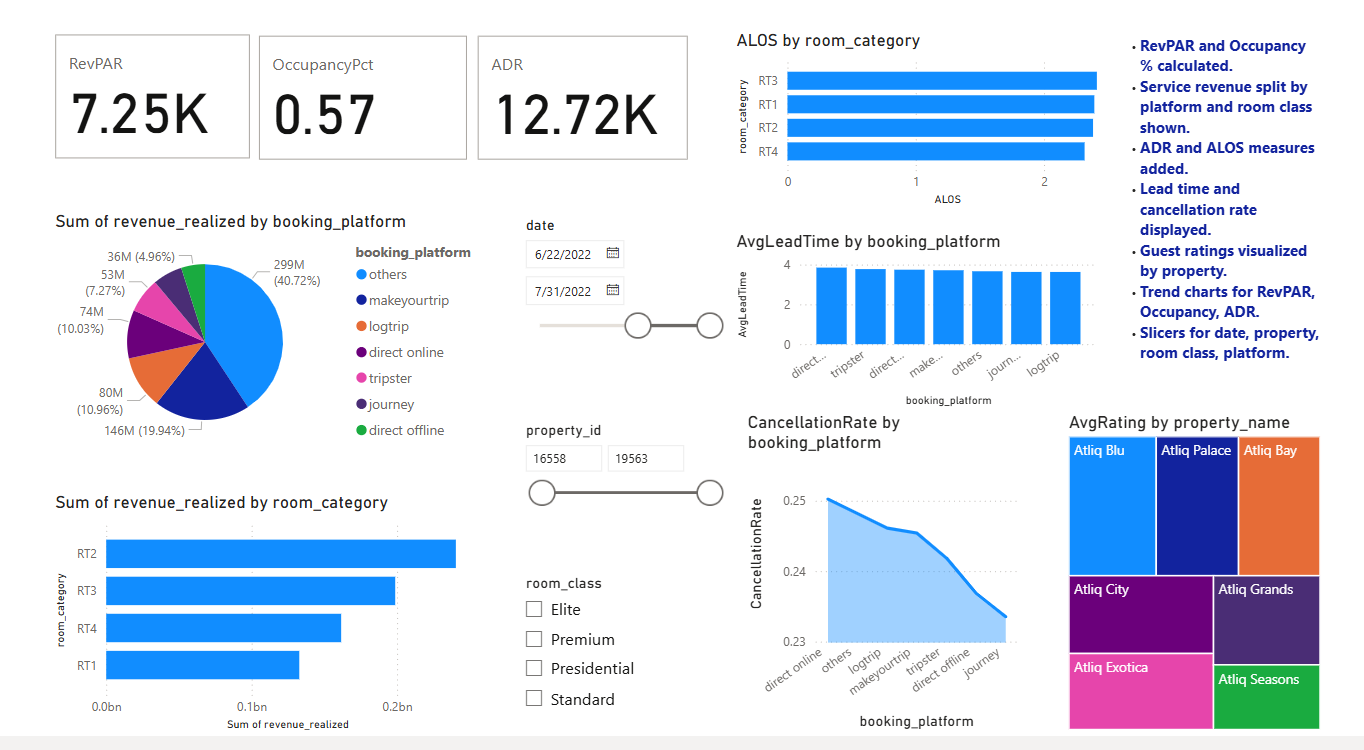

Layout of this report page (visuals, bound fields, positions):
{"tool":"powerbi","page":{"name":"Page 1","canvas":[1280,720],"ordinal":0},"visuals":[{"type":"pieChart","fields":{"Category":["fact_bookings.booking_platform"],"Y":["Sum(fact_bookings.revenue_realized)"]},"box":[20.6,208.6,429.5,237.4],"z":0},{"type":"barChart","fields":{"Category":["fact_bookings.room_category"],"Y":["Sum(fact_bookings.revenue_realized)"]},"box":[20.6,483,429.5,237.4],"z":1},{"type":"cardVisual","fields":{"Data":["fact_bookings.RevPAR"]},"box":[20.6,31.6,200.3,131.7],"z":4},{"type":"cardVisual","fields":{"Data":["fact_aggregated_bookings.OccupancyPct"]},"box":[220,33.3,213.3,131.7],"z":5},{"type":"slicer","fields":{"Values":["dim_date.date"]},"box":[471.7,208.3,213.3,150],"z":6},{"type":"slicer","fields":{"Values":["dim_hotels.property_id"]},"box":[471.7,408.3,213.3,150],"z":7},{"type":"slicer","fields":{"Values":["dim_rooms.room_class"]},"box":[471.7,558.3,213.3,150],"z":8},{"type":"cardVisual","fields":{"Data":["fact_bookings.ADR"]},"box":[433.3,33.3,215,131.7],"z":9},{"type":"barChart","fields":{"Category":["fact_bookings.room_category"],"Y":["fact_bookings.ALOS"]},"box":[685,31.7,376.7,176.7],"z":10},{"type":"columnChart","fields":{"Category":["fact_bookings.booking_platform"],"Y":["fact_bookings.AvgLeadTime"]},"box":[685,228.3,361.7,176.7],"z":11},{"type":"areaChart","fields":{"Category":["fact_bookings.booking_platform"],"Y":["fact_bookings.CancellationRate"]},"box":[696.7,405,273.3,315],"z":12},{"type":"treemap","fields":{"Group":["dim_hotels.property_name"],"Values":["fact_bookings.AvgRating"]},"box":[1010,405,255,315],"z":13},{"type":"textbox","box":[1061.4,31.4,204.3,374.3],"z":14}]}

Visuals, with their boxes in screenshot pixels (x1, y1, x2, y2), scaled from the page's 1280x720 canvas onto the 1364x750 screenshot:
pieChart - fact_bookings.booking_platform x Sum(fact_bookings.revenue_realized): box=[22, 217, 480, 465]
barChart - fact_bookings.room_category x Sum(fact_bookings.revenue_realized): box=[22, 503, 480, 749]
cardVisual - fact_bookings.RevPAR: box=[22, 33, 235, 170]
cardVisual - fact_aggregated_bookings.OccupancyPct: box=[234, 35, 462, 172]
slicer - dim_date.date: box=[503, 217, 730, 373]
slicer - dim_hotels.property_id: box=[503, 425, 730, 582]
slicer - dim_rooms.room_class: box=[503, 582, 730, 738]
cardVisual - fact_bookings.ADR: box=[462, 35, 691, 172]
barChart - fact_bookings.room_category x fact_bookings.ALOS: box=[730, 33, 1131, 217]
columnChart - fact_bookings.booking_platform x fact_bookings.AvgLeadTime: box=[730, 238, 1115, 422]
areaChart - fact_bookings.booking_platform x fact_bookings.CancellationRate: box=[742, 422, 1034, 749]
treemap - dim_hotels.property_name x fact_bookings.AvgRating: box=[1076, 422, 1348, 749]
textbox: box=[1131, 33, 1349, 423]
